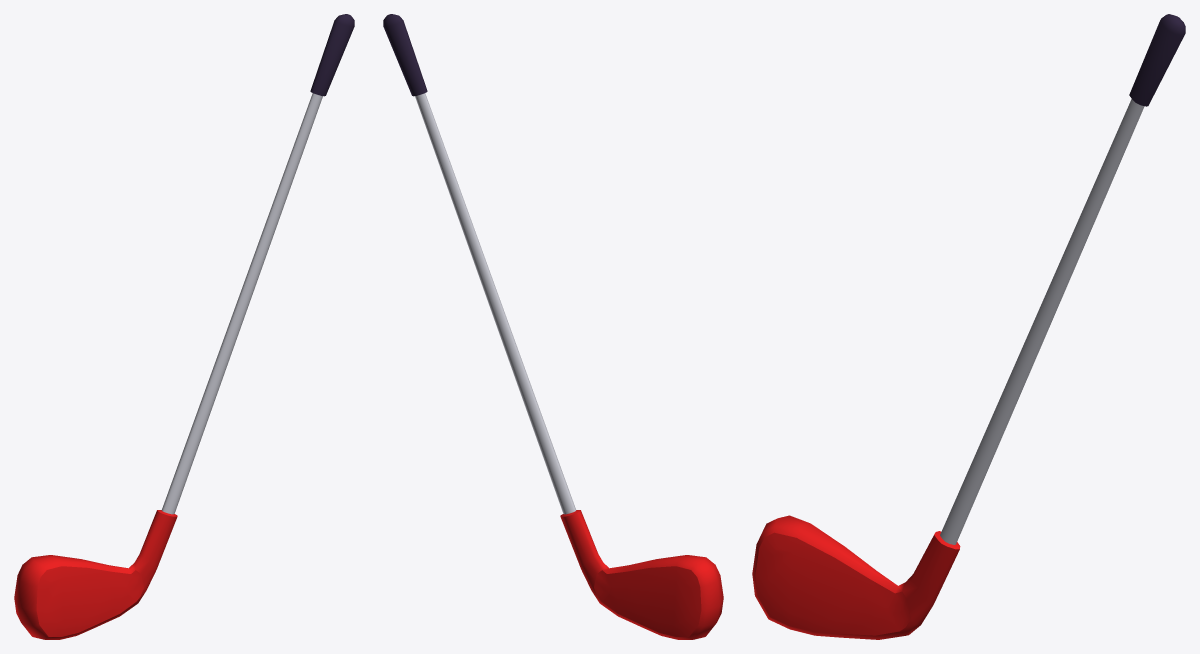
The model's file is Color Golf Club Pivot Guay Def Color2.fbx.
3 views of the same model, side by side, from view 1: azimuth 30°, elevation 25°; view 2: azimuth 150°, elevation 25°; view 3: azimuth 330°, elevation 25° (orthographic). The views are drawn at different scales.
Parts seen in each view (by area): view 1: Plane002; view 2: Plane002; view 3: Plane002.
Boxes of the visible parts, x1=… form: Plane002: x1=14, y1=14, x2=354, y2=639; Plane002: x1=383, y1=14, x2=723, y2=639; Plane002: x1=752, y1=14, x2=1185, y2=639.
Size of the model in its own units: 488 by 766 by 54.25.
